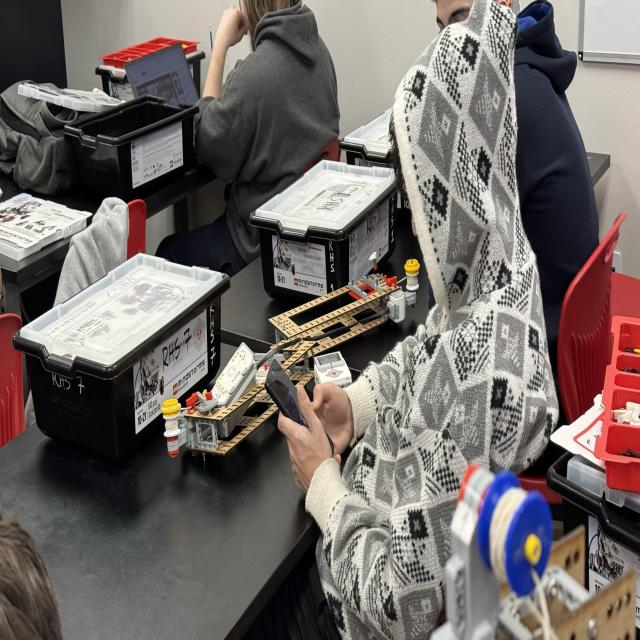pen: (265, 358, 335, 474)
